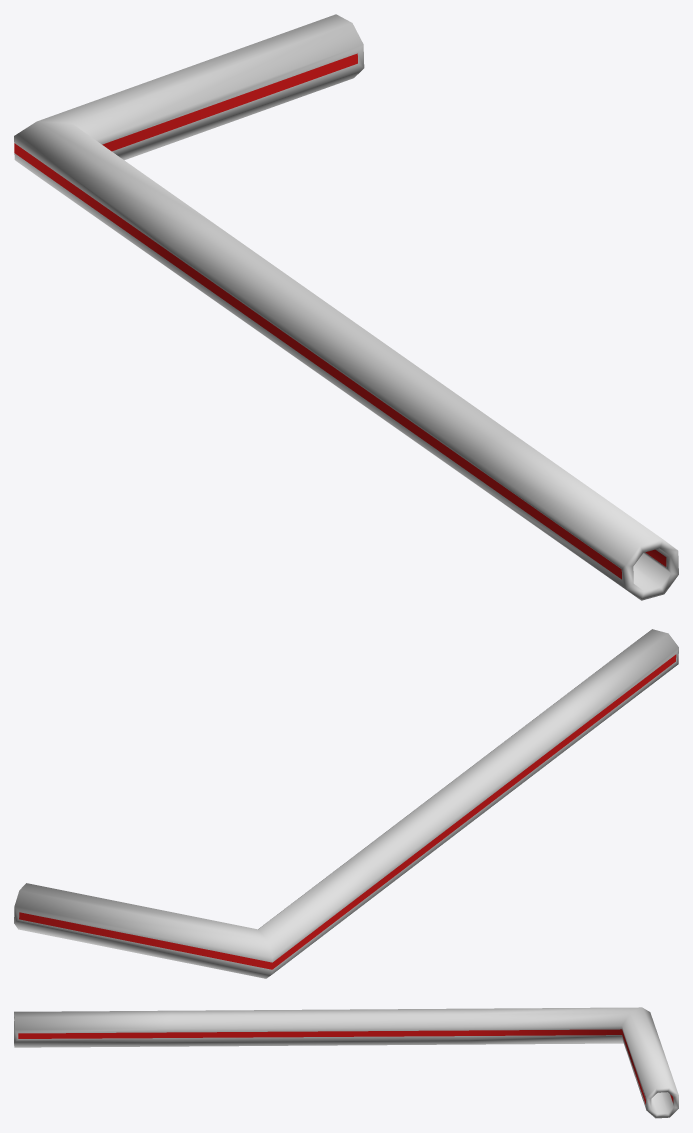
Rendered from CupStraw.fbx.
3 renders of one model, top to bottom at view 1: azimuth 30°, elevation 25°; view 2: azimuth 150°, elevation 25°; view 3: azimuth 270°, elevation 25°, orthographic. The views are drawn at different scales.
Visible parts, largest first — view 1: straw; view 2: straw; view 3: straw.
Boxes of the visible parts, left/top/right/bottom form: straw: left=14, top=14, right=678, bottom=600; straw: left=14, top=629, right=678, bottom=978; straw: left=14, top=1007, right=678, bottom=1118.
Bounding box in the file's own units: 30.58 × 5.48 × 94.76.
